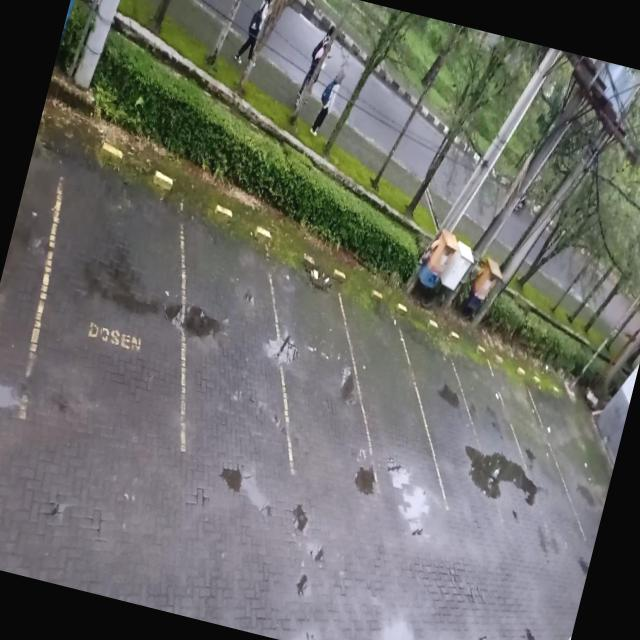free: (5, 136, 230, 454), (146, 196, 312, 471), (246, 251, 382, 484), (336, 292, 444, 482), (396, 323, 498, 509), (437, 342, 542, 522)
